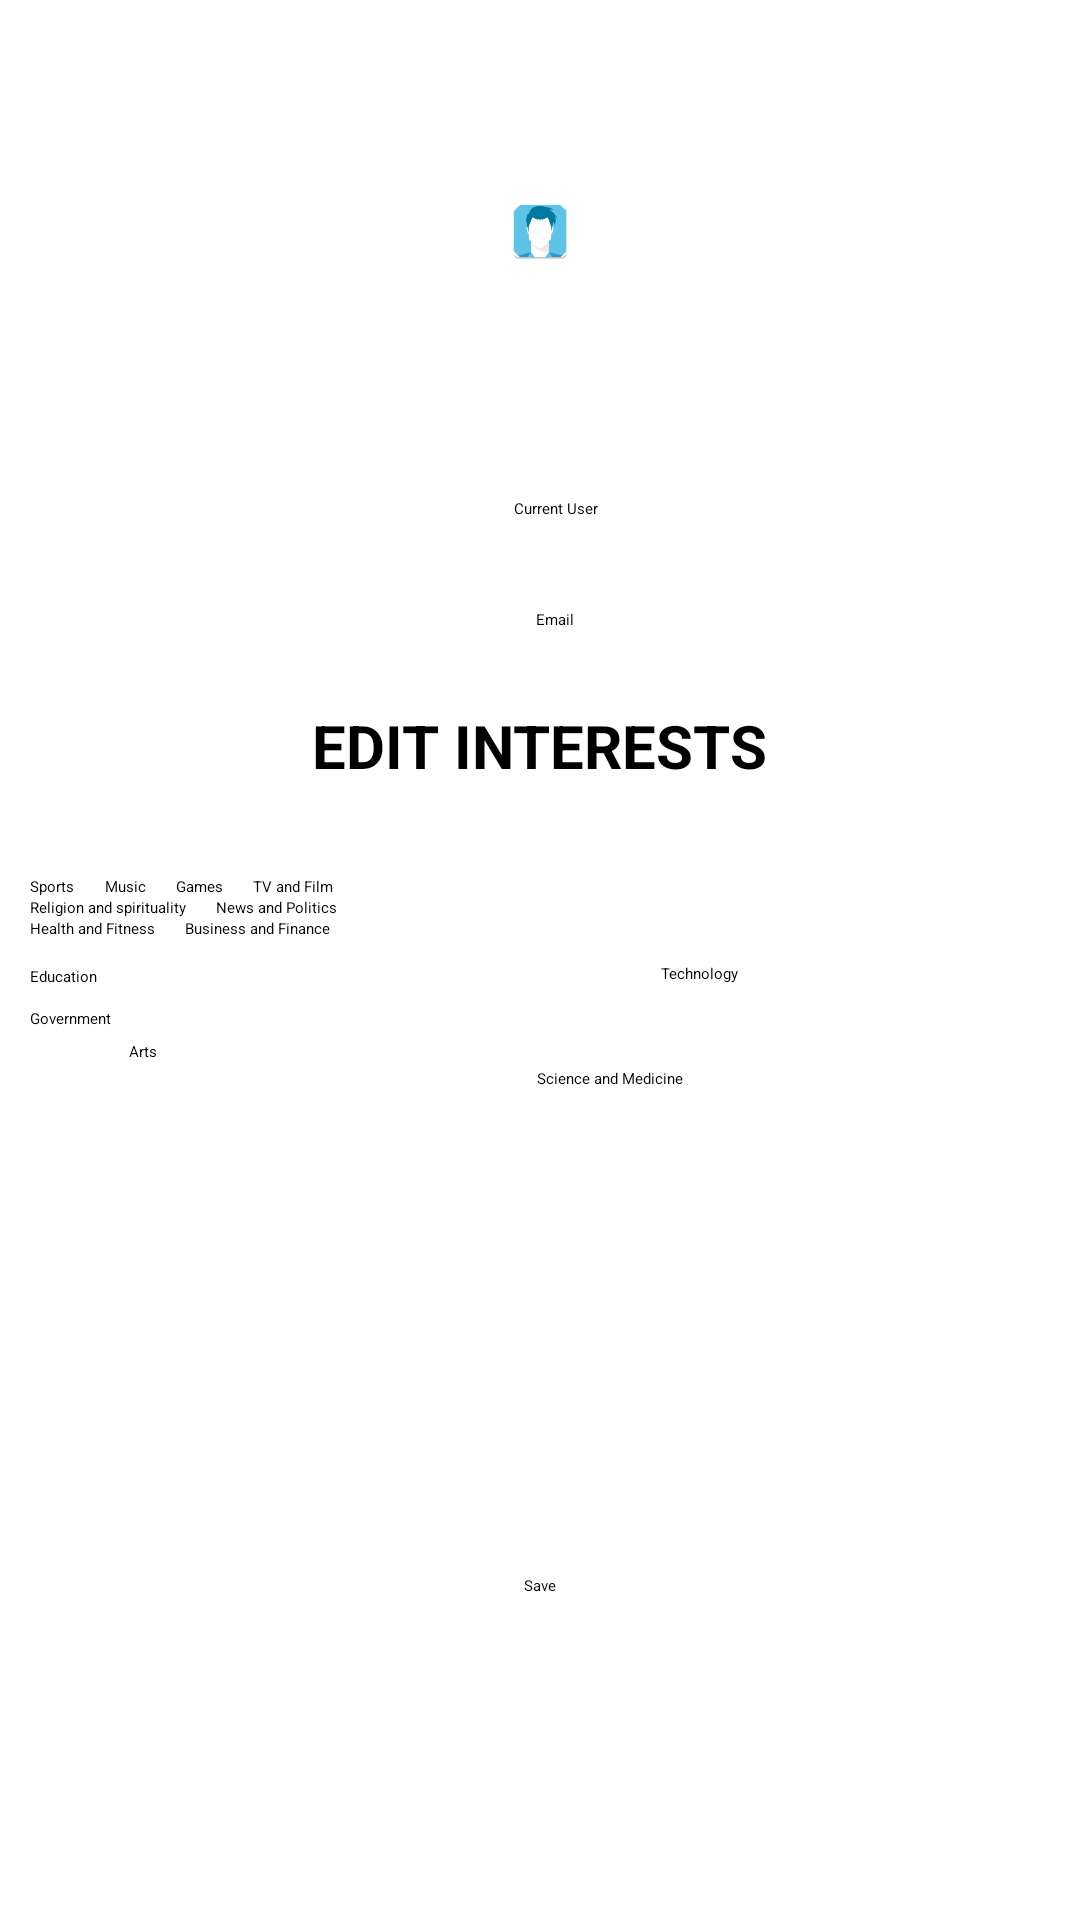

Where icons sit on this 1080×1920 app screen, as (x1, y1, x2, y2):
profile: (513, 205, 567, 259)
